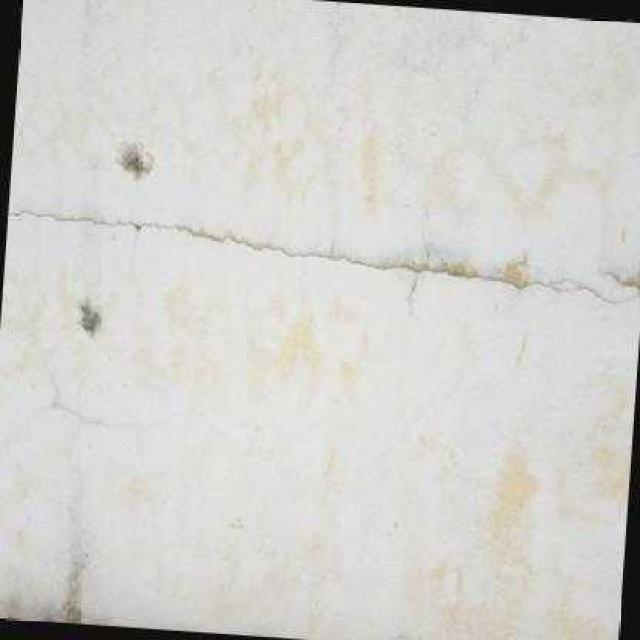D00: (6, 202, 640, 308)
